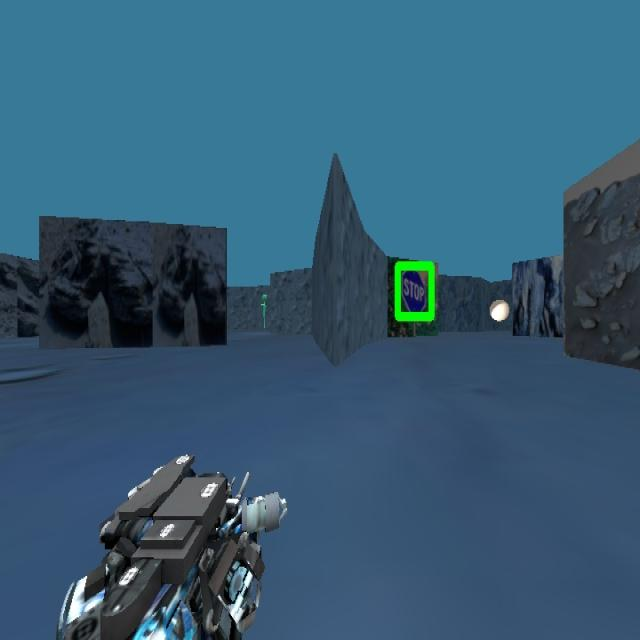Alien: (251, 280, 277, 360)
Circle: (489, 299, 509, 321)
Stop_Sign: (392, 258, 435, 322)
